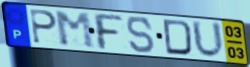D: (162, 18, 194, 57)
F: (91, 12, 126, 52)
M: (53, 10, 97, 50)
P: (29, 8, 59, 46)
S: (125, 15, 156, 54)
U: (190, 19, 226, 60)
